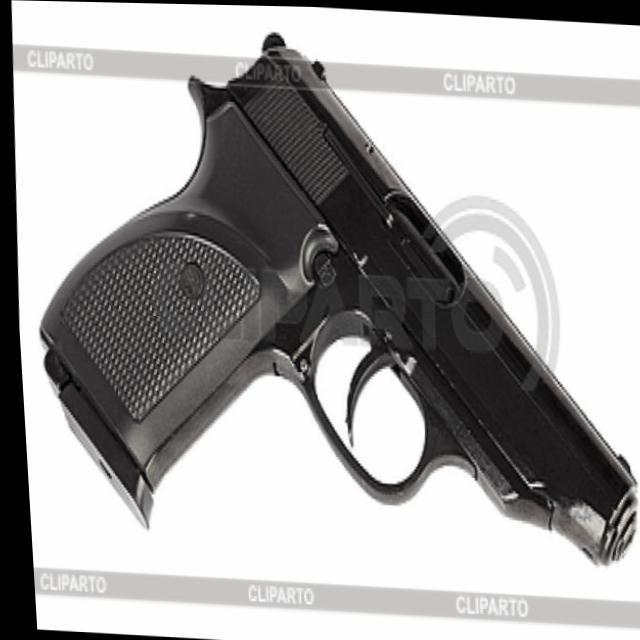weapon: (11, 15, 640, 565)
